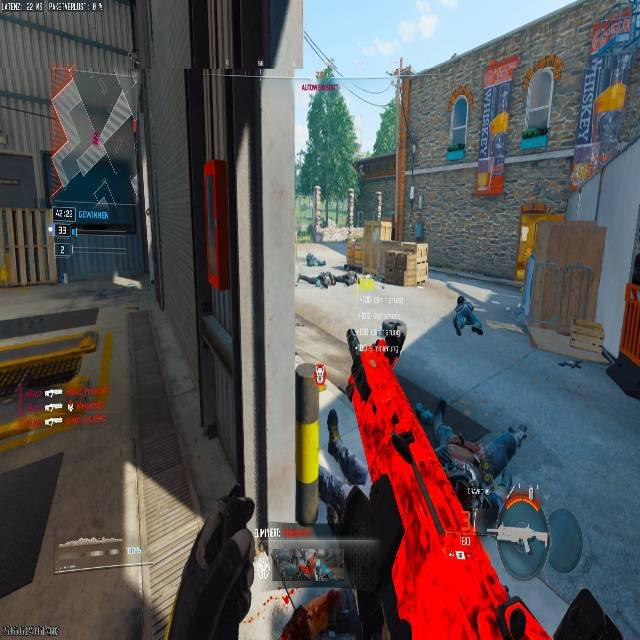head: (457, 295, 465, 304)
player: (451, 294, 484, 337)
